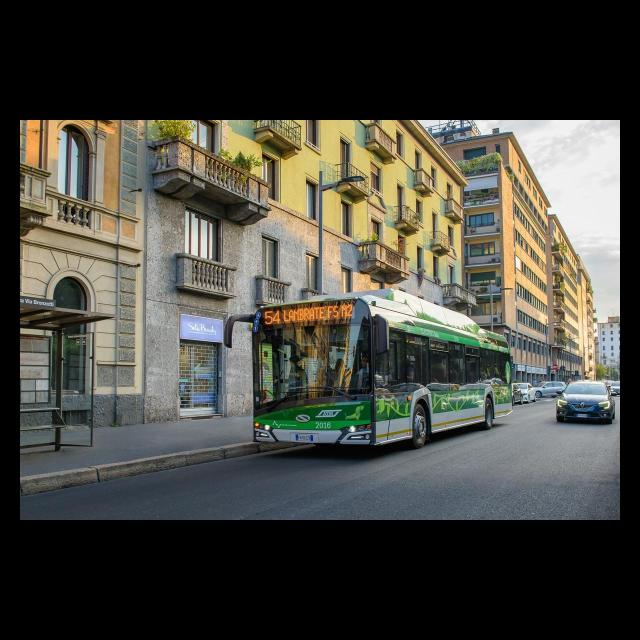Bus: (226, 290, 512, 448)
Car: (557, 382, 616, 424)
Electric pole: (318, 170, 365, 295)
